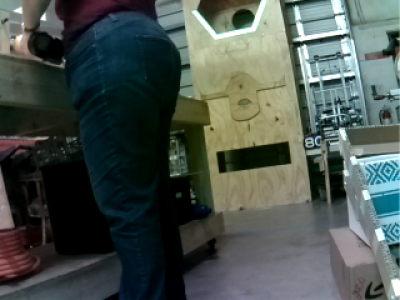target: (191, 1, 266, 40)
